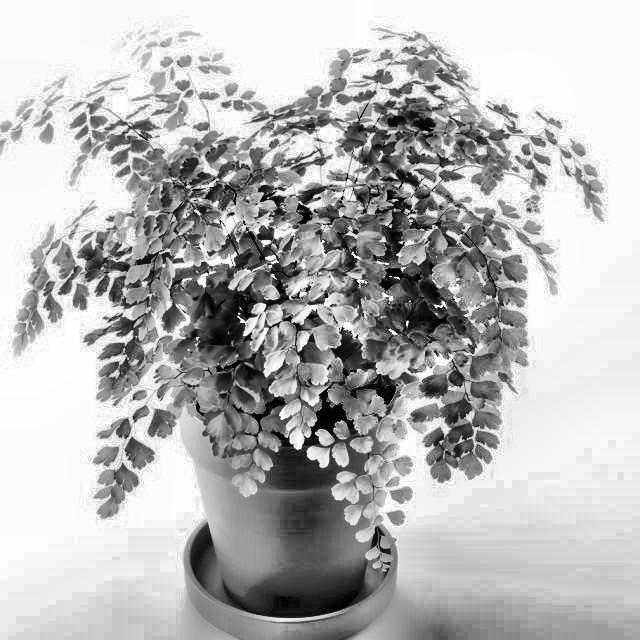plants: (23, 26, 560, 640)
